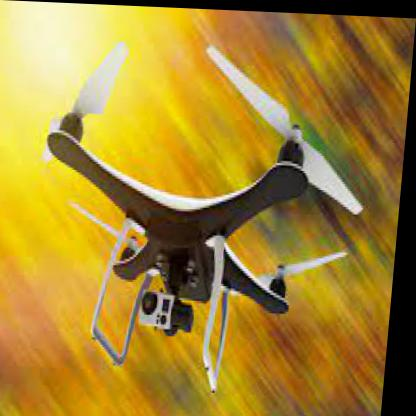Car: (31, 36, 376, 395)
